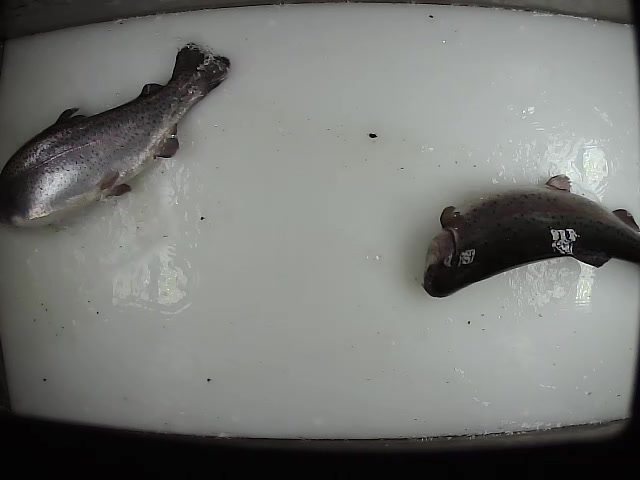fish: (1, 42, 232, 235), (420, 170, 640, 299)
